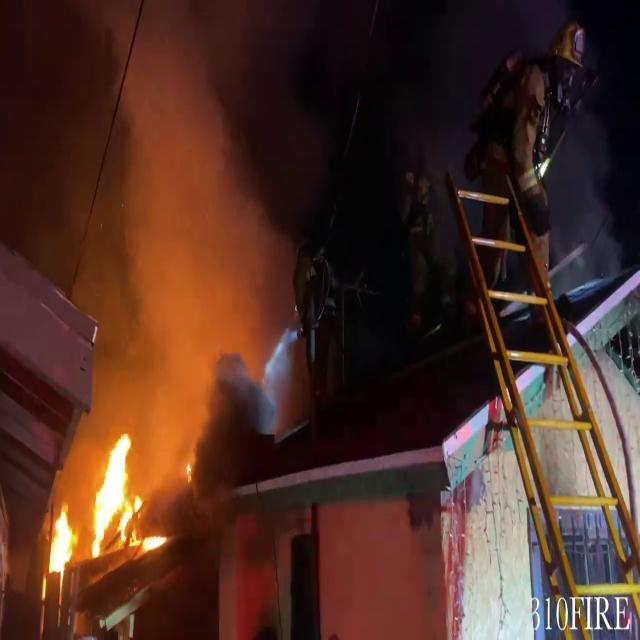Fire: (83, 426, 162, 563), (44, 499, 78, 582)
Smoke: (61, 1, 303, 426)
